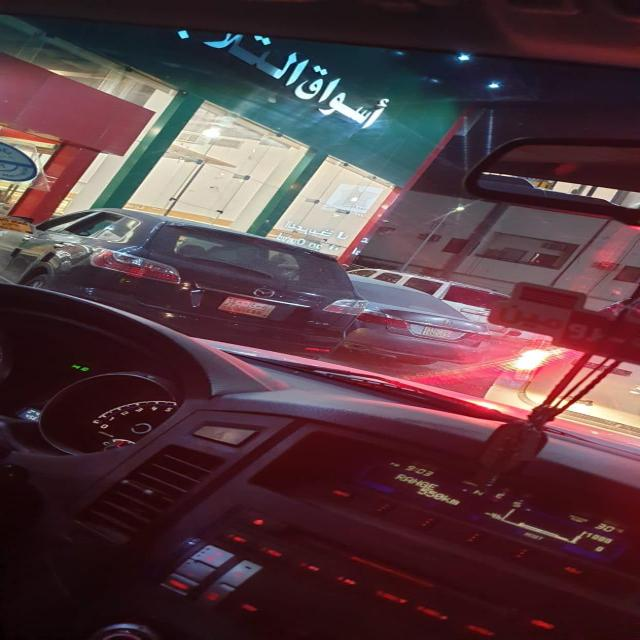license_plate: (214, 296, 277, 318), (419, 326, 454, 338)
